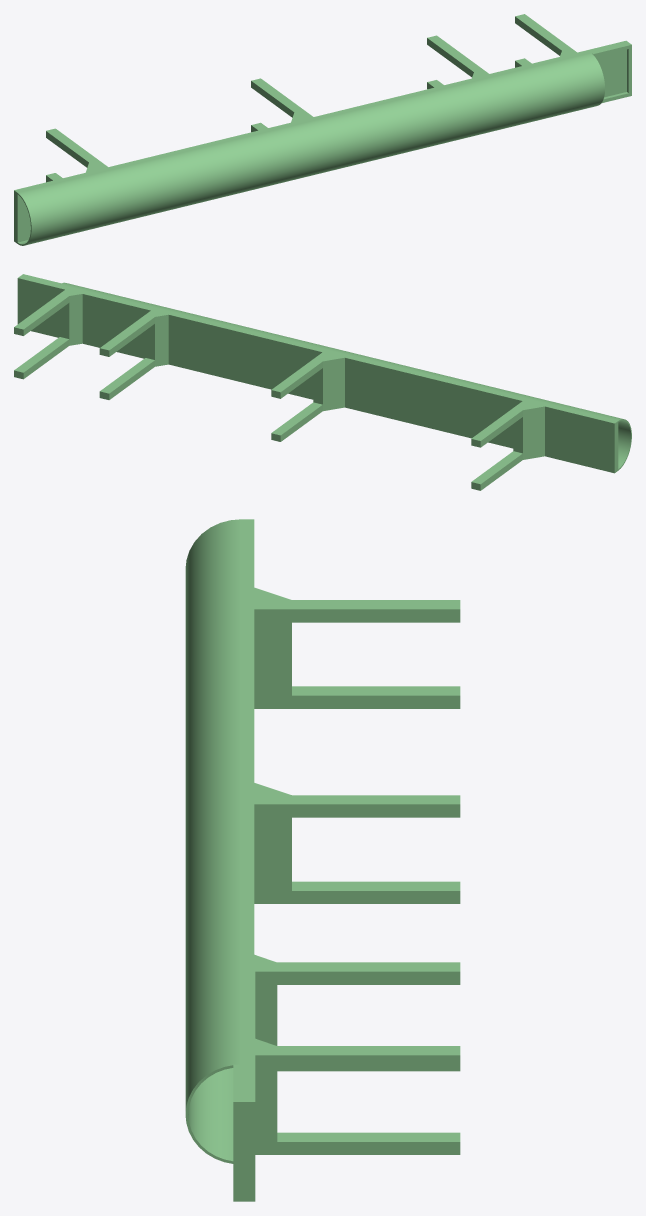
Rendered from rullo2.glb.
3 views of the same model, one above another, from view 1: azimuth 30°, elevation 25°; view 2: azimuth 150°, elevation 25°; view 3: azimuth 270°, elevation 25° (orthographic). The views are drawn at different scales.
Visible parts, largest first — view 1: Body1; view 2: Body1; view 3: Body1.
Part boxes in pixels (x1,y1,x2,y2): Body1: (14,14,631,245); Body1: (14,274,631,490); Body1: (185,519,460,1201).
Size of the model in its own units: 0.188 by 0.015 by 0.0375.
